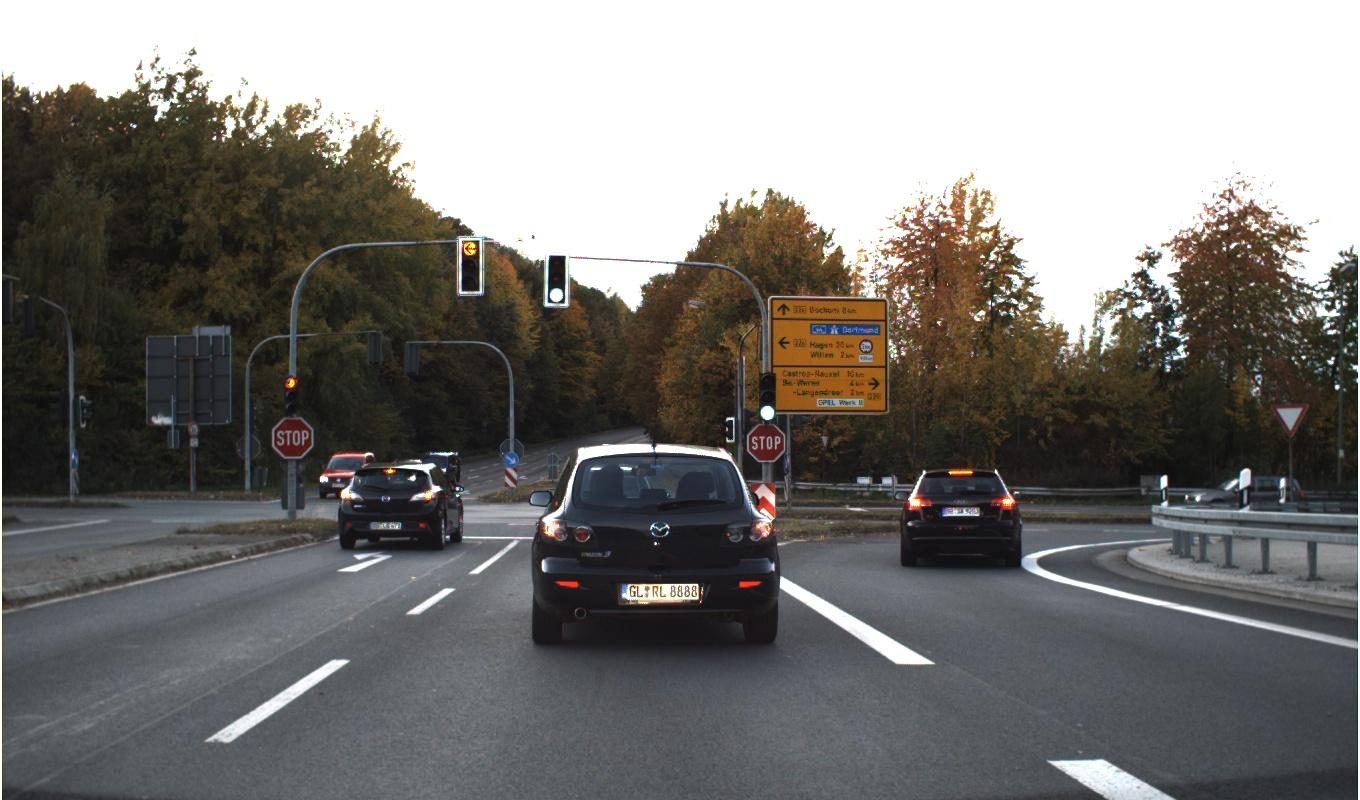stop: (271, 402, 1308, 468)
